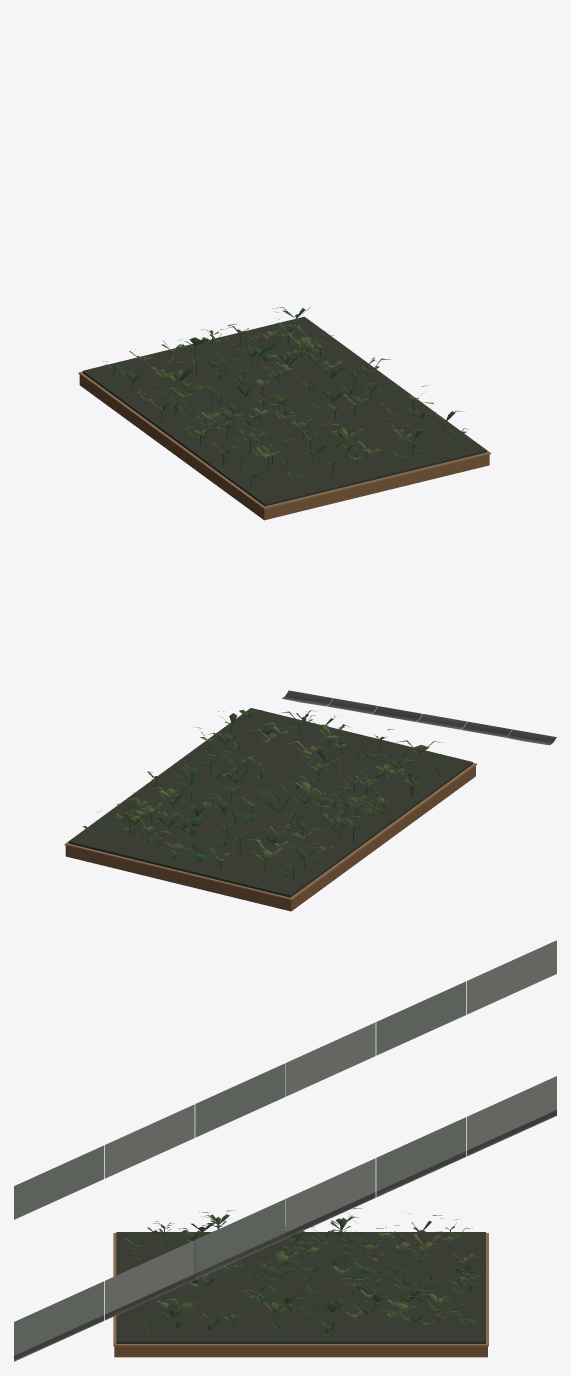
Rendered from soffit.glb.
3 renders of one model, top to bottom at view 1: azimuth 30°, elevation 25°; view 2: azimuth 150°, elevation 25°; view 3: azimuth 270°, elevation 25°, orthographic.
Visible parts, largest first — view 1: Surface; view 2: Surface; view 3: Surface.
Boxes of the visible parts, left/top/right/bottom form: Surface: left=78, top=307, right=490, bottom=520; Surface: left=64, top=690, right=556, bottom=911; Surface: left=14, top=940, right=556, bottom=1361.
Size of the model in its own units: 5.95 by 5.93 by 10.05.
